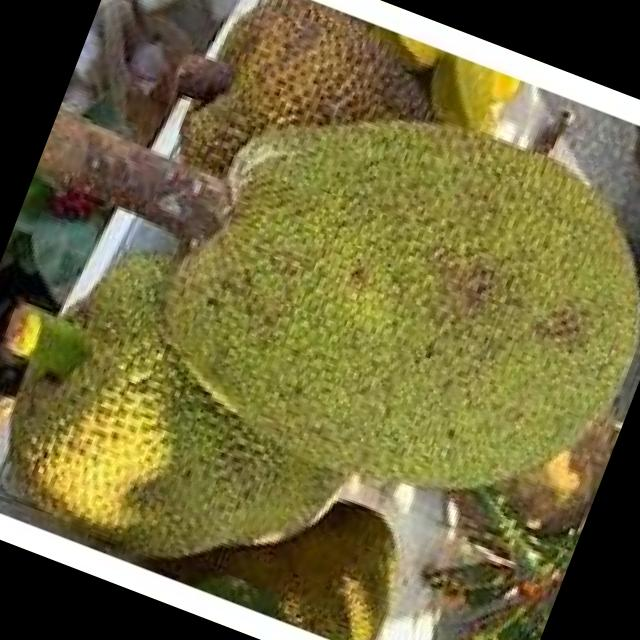Fruit: (0, 120, 482, 640), (214, 55, 640, 568)
